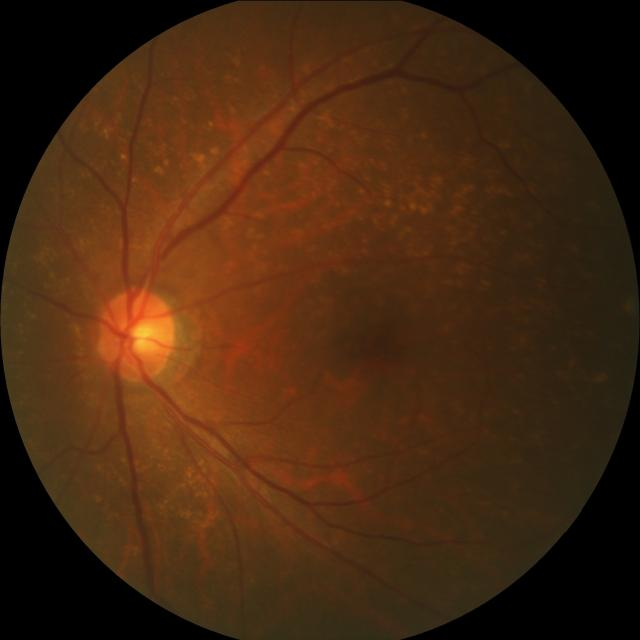OC: (121, 318, 157, 356)
OD: (96, 286, 175, 381)
